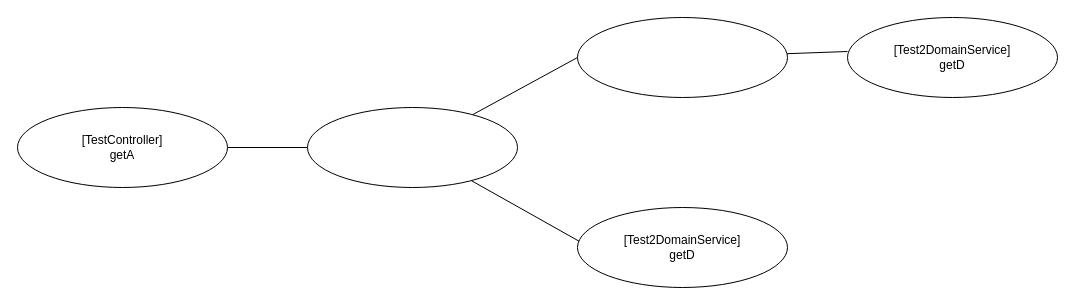
This 1075x305 diagram has some shape labels left out. The centre of each missing label's shape, as x and y in pixels:
[TestApplicationService] getB: pixel 412 147
[TestDomainService] getC: pixel 682 57
